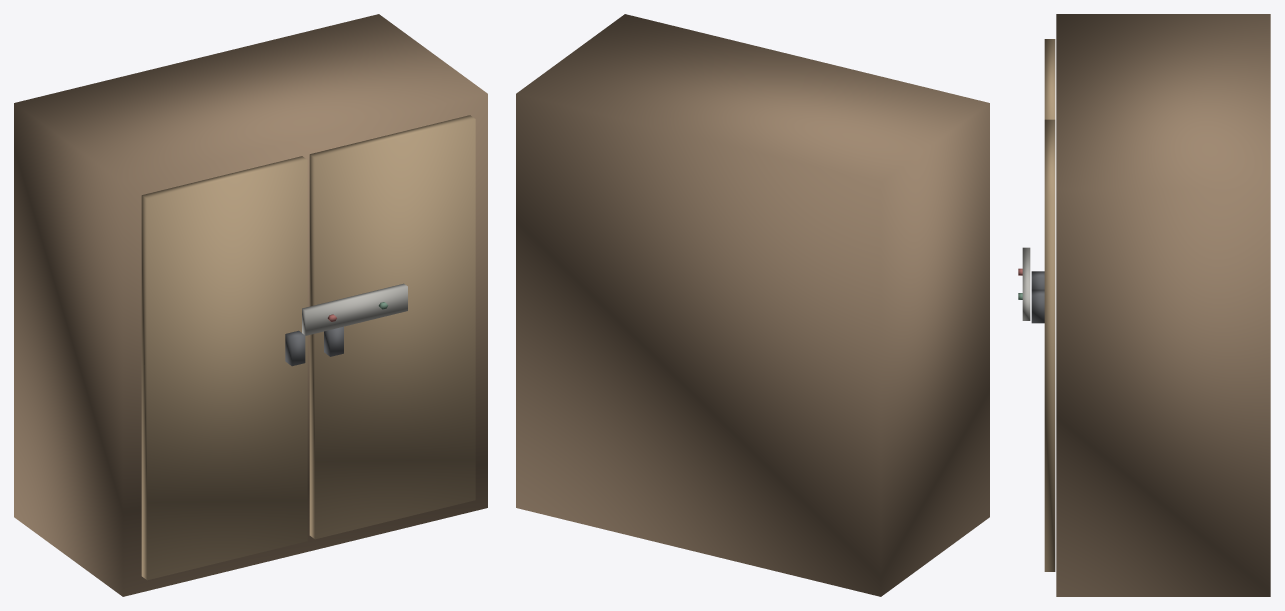
File: evidence_cabinet__squat.glb
The picture shows the model from 3 angles, left to right: view 1: azimuth 30°, elevation 25°; view 2: azimuth 150°, elevation 25°; view 3: azimuth 270°, elevation 25°; orthographic projection.
Visible parts, largest first — view 1: world; view 2: world; view 3: world.
Part boxes in pixels (bbox=[...]): world: bbox=[14, 14, 487, 596]; world: bbox=[516, 14, 989, 596]; world: bbox=[1018, 14, 1270, 596].
Bounding box in the file's own units: 1.04 × 1.13 × 0.6356.
